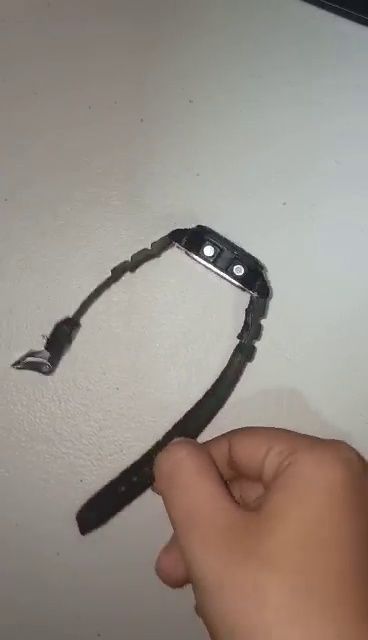watch: (12, 223, 277, 540)
